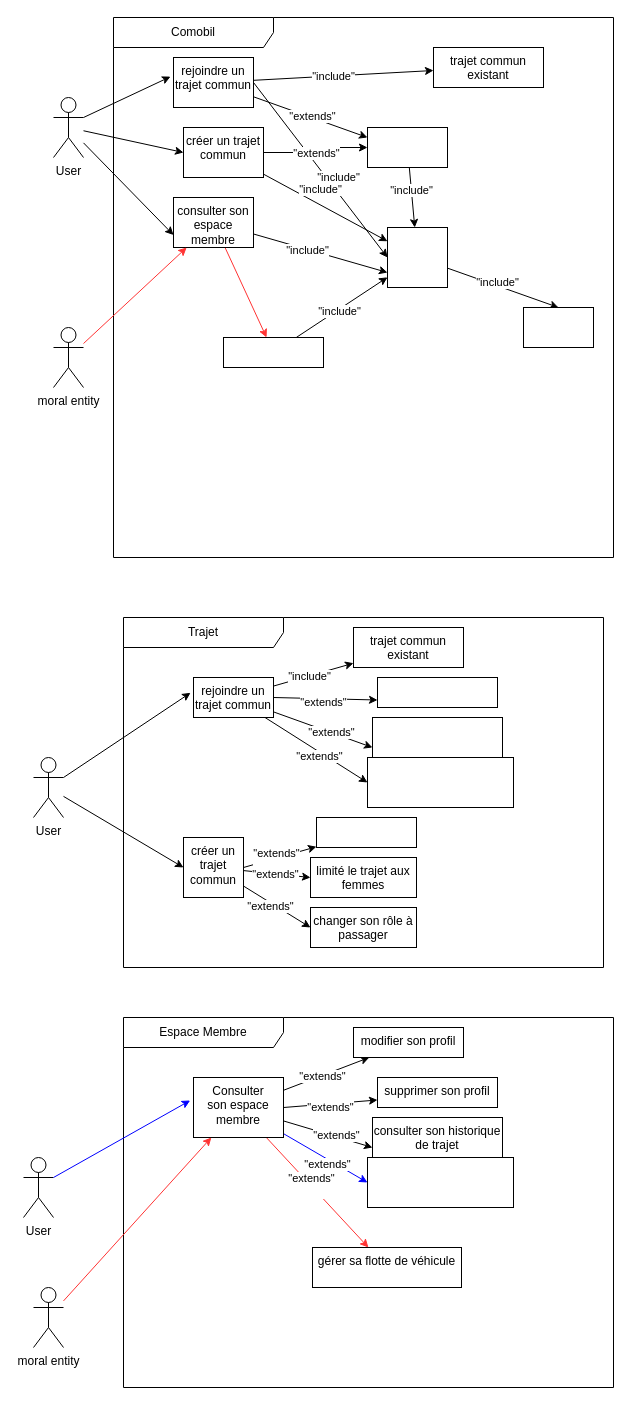
This 631x1405 diagram has some shape labels left out. The shapes that lost their labels are listed below. From the top down, each one's centre as x and y in pixels, then its label:
At point (407, 147): "emprunter un véhicule".
At point (417, 257): "se connecter".
At point (558, 327): "s'incrire".
At point (273, 352): "prêter sa voiture".
At point (437, 692): "quitter le trajet".
At point (437, 737): "chercher les trajets reservé aux femmes".
At point (440, 782): "chercher les trajets qui ont besoin d'un conducteur".
At point (366, 832): "annuler le trajet".
At point (440, 1182): "créer un groupe de covoiturage".
